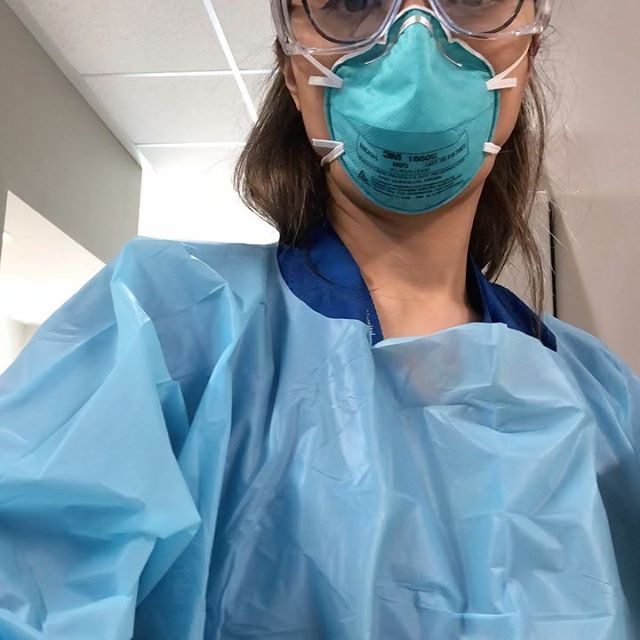n95: (307, 6, 527, 211)
